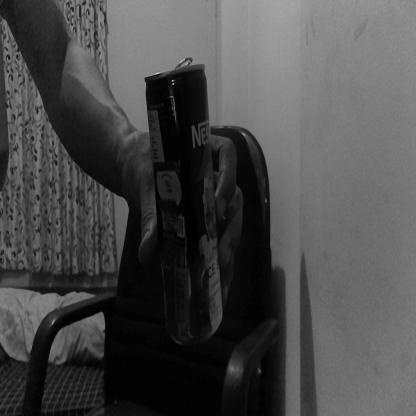plastic_bottles: (144, 51, 224, 348)
